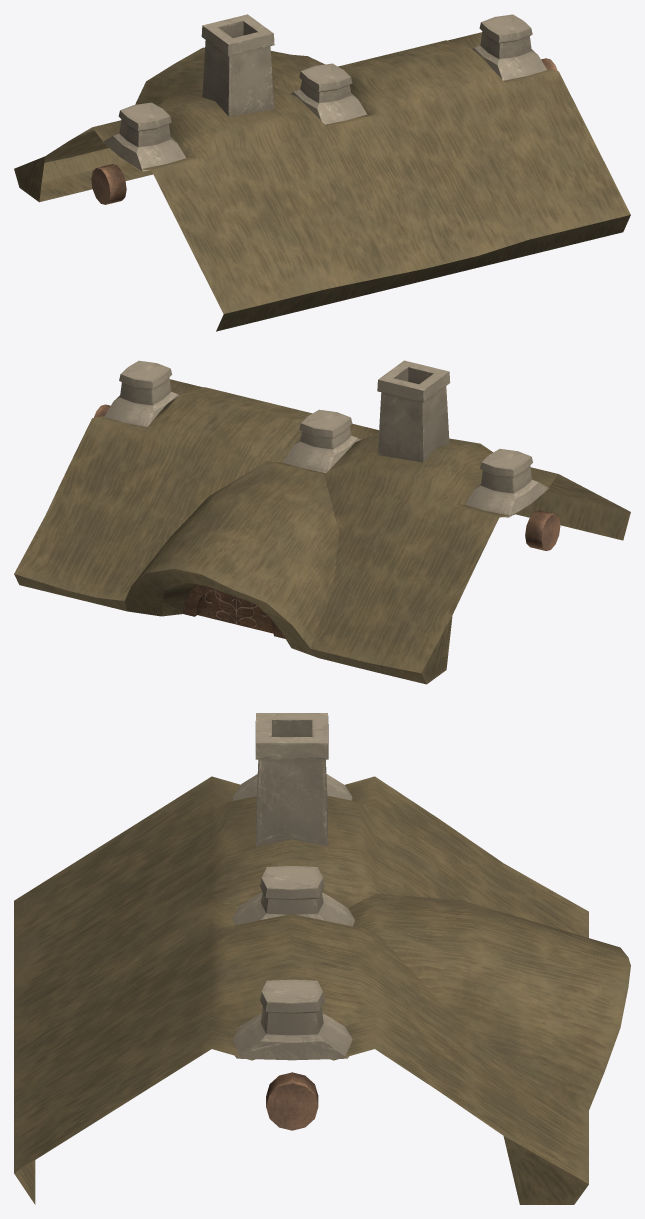
File: House_FileneA_Roof_Bmap.fbx
3 views of the same model, one above another, from view 1: azimuth 30°, elevation 25°; view 2: azimuth 150°, elevation 25°; view 3: azimuth 270°, elevation 25° (orthographic). The views are drawn at different scales.
Visible parts, largest first — view 1: House_FileneA_Roof_Bmap; view 2: House_FileneA_Roof_Bmap; view 3: House_FileneA_Roof_Bmap.
Boxes of the visible parts, bbox=[...] form: House_FileneA_Roof_Bmap: bbox=[14, 14, 630, 331]; House_FileneA_Roof_Bmap: bbox=[14, 360, 630, 684]; House_FileneA_Roof_Bmap: bbox=[14, 713, 630, 1204].
Size of the model in its own units: 1143 by 499 by 990.
Materials: 1 (1 with a texture image).
